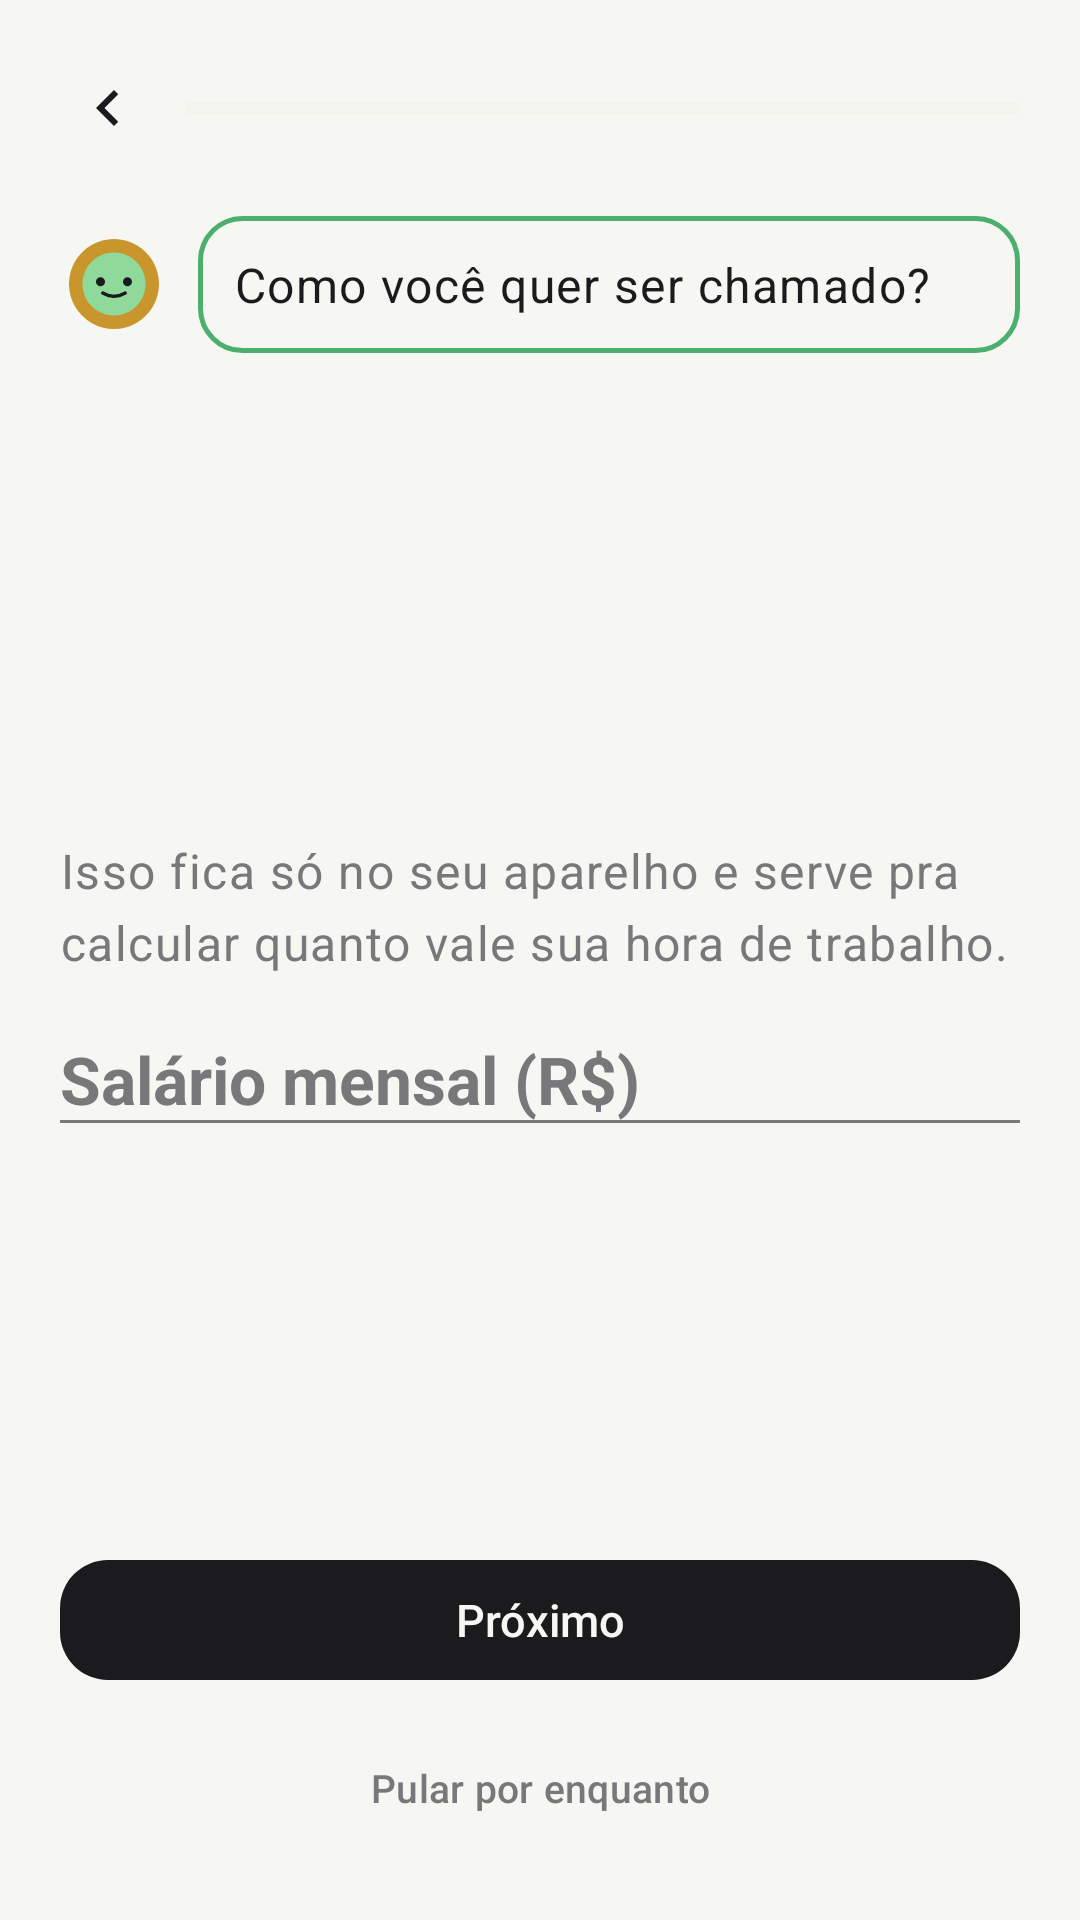

Locate icon controls on the screen. Image size 1080 x 1920, boxes as (x1, y1, x2, y2).
Mascote do Anota+: (69, 239, 159, 329)
Voltar: (96, 90, 118, 126)
